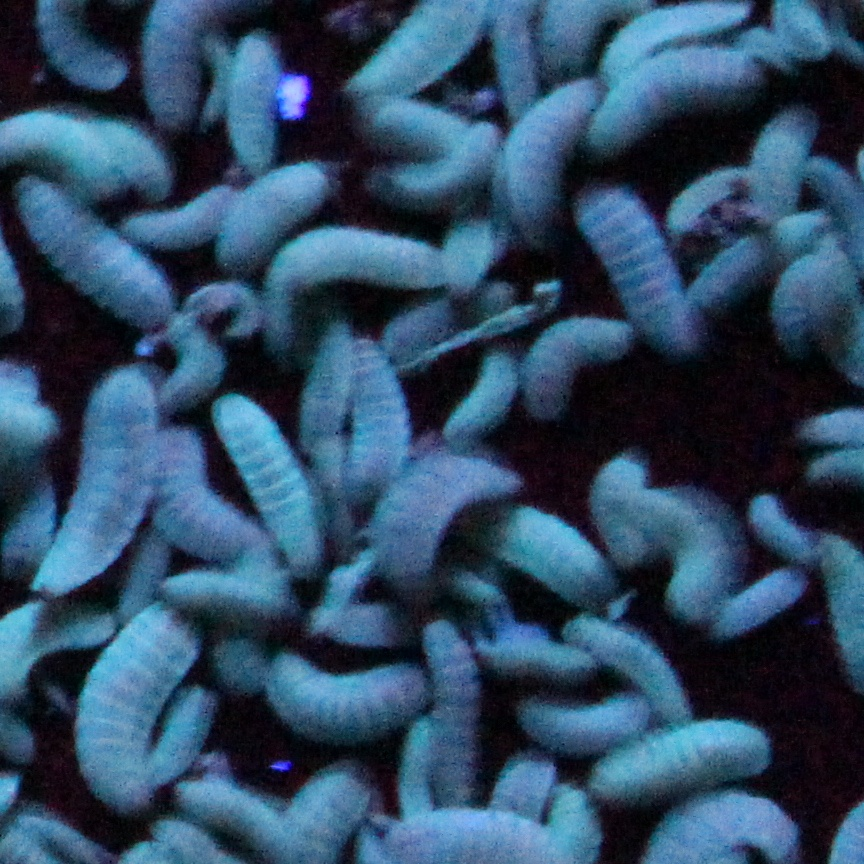larve: (41, 375, 137, 594), (222, 397, 315, 572), (33, 197, 152, 323), (596, 194, 689, 346), (600, 52, 750, 146), (85, 609, 159, 797), (276, 653, 418, 737), (421, 617, 481, 805), (585, 727, 770, 786), (509, 101, 576, 251), (640, 795, 806, 854), (640, 495, 719, 617), (289, 231, 444, 293), (386, 469, 459, 591), (350, 340, 404, 470), (231, 31, 279, 169), (492, 508, 582, 578), (813, 259, 864, 379), (4, 114, 91, 183), (726, 569, 805, 644), (487, 628, 582, 686), (604, 1, 744, 40), (753, 106, 804, 211), (234, 173, 286, 270), (591, 456, 640, 558), (361, 107, 461, 156), (586, 618, 659, 679), (461, 348, 507, 444), (764, 267, 811, 357), (529, 333, 580, 402), (103, 127, 163, 183), (506, 744, 554, 813), (150, 204, 231, 243), (377, 169, 477, 200), (319, 326, 344, 423), (454, 217, 487, 287)
